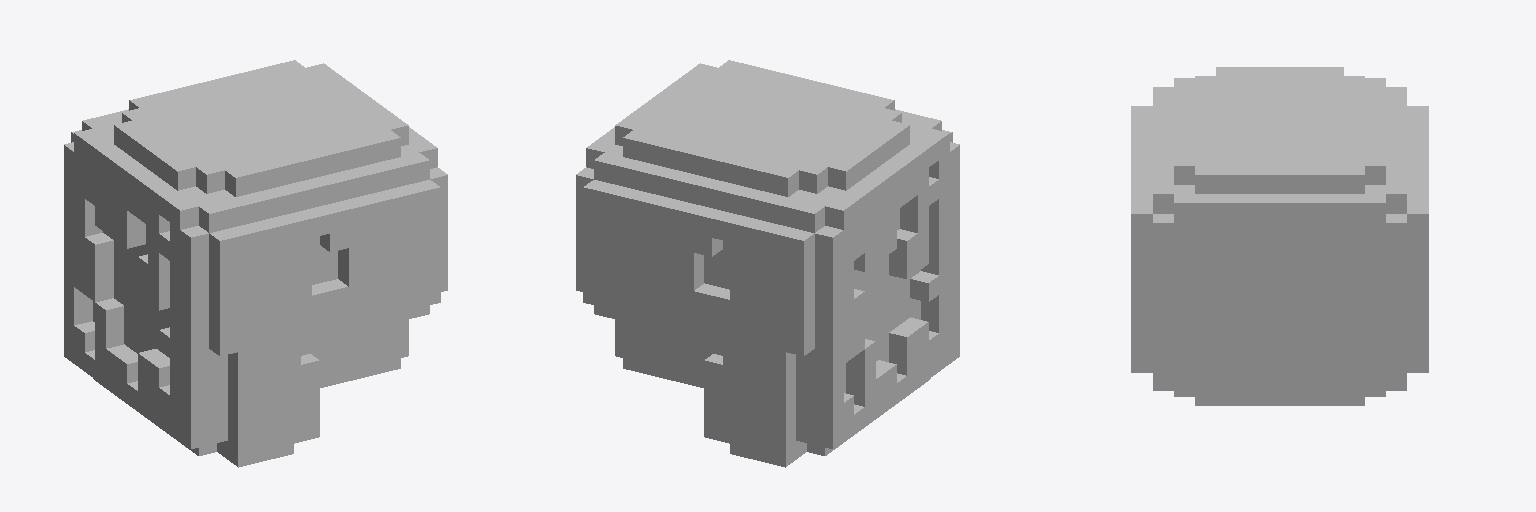
Rendered from Mdl_TheFaceless_0.obj.
The picture shows the model from 3 angles: view 1: azimuth 30°, elevation 25°; view 2: azimuth 150°, elevation 25°; view 3: azimuth 270°, elevation 25°; orthographic projection.
Parts seen in each view (by area): view 1: Mdl_TheFaceless_0; view 2: Mdl_TheFaceless_0; view 3: Mdl_TheFaceless_0.
Boxes of the visible parts, x1,y1,x2,y2 form: Mdl_TheFaceless_0: [64, 60, 447, 467]; Mdl_TheFaceless_0: [576, 60, 959, 467]; Mdl_TheFaceless_0: [1131, 67, 1428, 405].
Bounding box in the file's own units: 14 × 14 × 14.